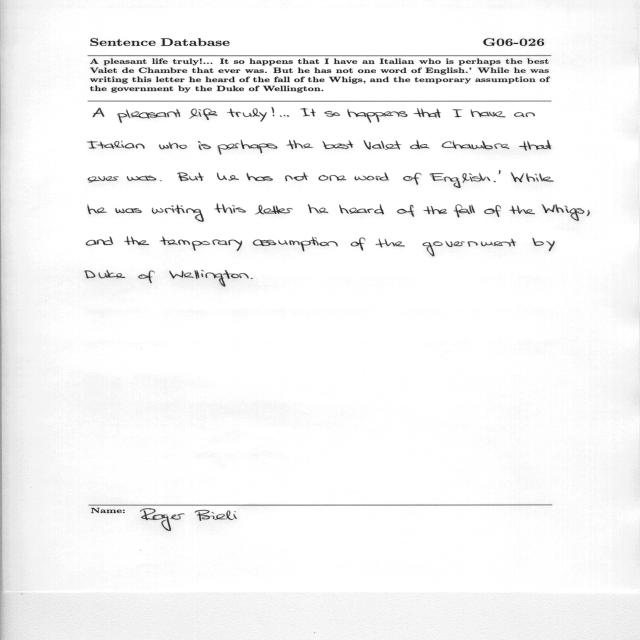word: (423, 239, 517, 257), (169, 270, 249, 287), (160, 236, 242, 251), (253, 237, 338, 251), (152, 204, 204, 222), (217, 140, 278, 155), (430, 173, 490, 188), (117, 109, 180, 123), (347, 109, 408, 123), (542, 204, 585, 221), (227, 108, 267, 122), (442, 141, 509, 149), (87, 141, 145, 149), (339, 204, 384, 214), (511, 173, 554, 183), (364, 140, 402, 150), (255, 205, 293, 215), (85, 270, 125, 279), (519, 140, 551, 151), (189, 108, 218, 120), (354, 172, 389, 181), (215, 204, 246, 214), (453, 205, 475, 218), (471, 110, 506, 118), (323, 140, 354, 149), (414, 108, 441, 118), (376, 239, 405, 248), (403, 172, 422, 185), (286, 140, 313, 149), (177, 173, 204, 182), (246, 172, 273, 181), (87, 237, 114, 246), (509, 206, 535, 215), (124, 237, 149, 246), (138, 271, 155, 284), (88, 176, 119, 183), (285, 172, 308, 181), (397, 205, 414, 217), (484, 205, 501, 217), (308, 204, 328, 214), (159, 142, 187, 149), (351, 238, 366, 251), (424, 206, 448, 214), (410, 140, 430, 149), (217, 173, 239, 181), (127, 175, 156, 181), (88, 206, 107, 215), (319, 175, 347, 181), (115, 208, 142, 213), (300, 108, 316, 116), (93, 108, 105, 118), (198, 141, 211, 150), (514, 112, 535, 117), (324, 111, 340, 117), (532, 238, 544, 246), (546, 241, 555, 251), (453, 109, 463, 117), (272, 107, 275, 116), (280, 115, 289, 117), (587, 210, 590, 216), (499, 170, 501, 175), (250, 278, 253, 279), (160, 180, 162, 181), (494, 181, 496, 182)
